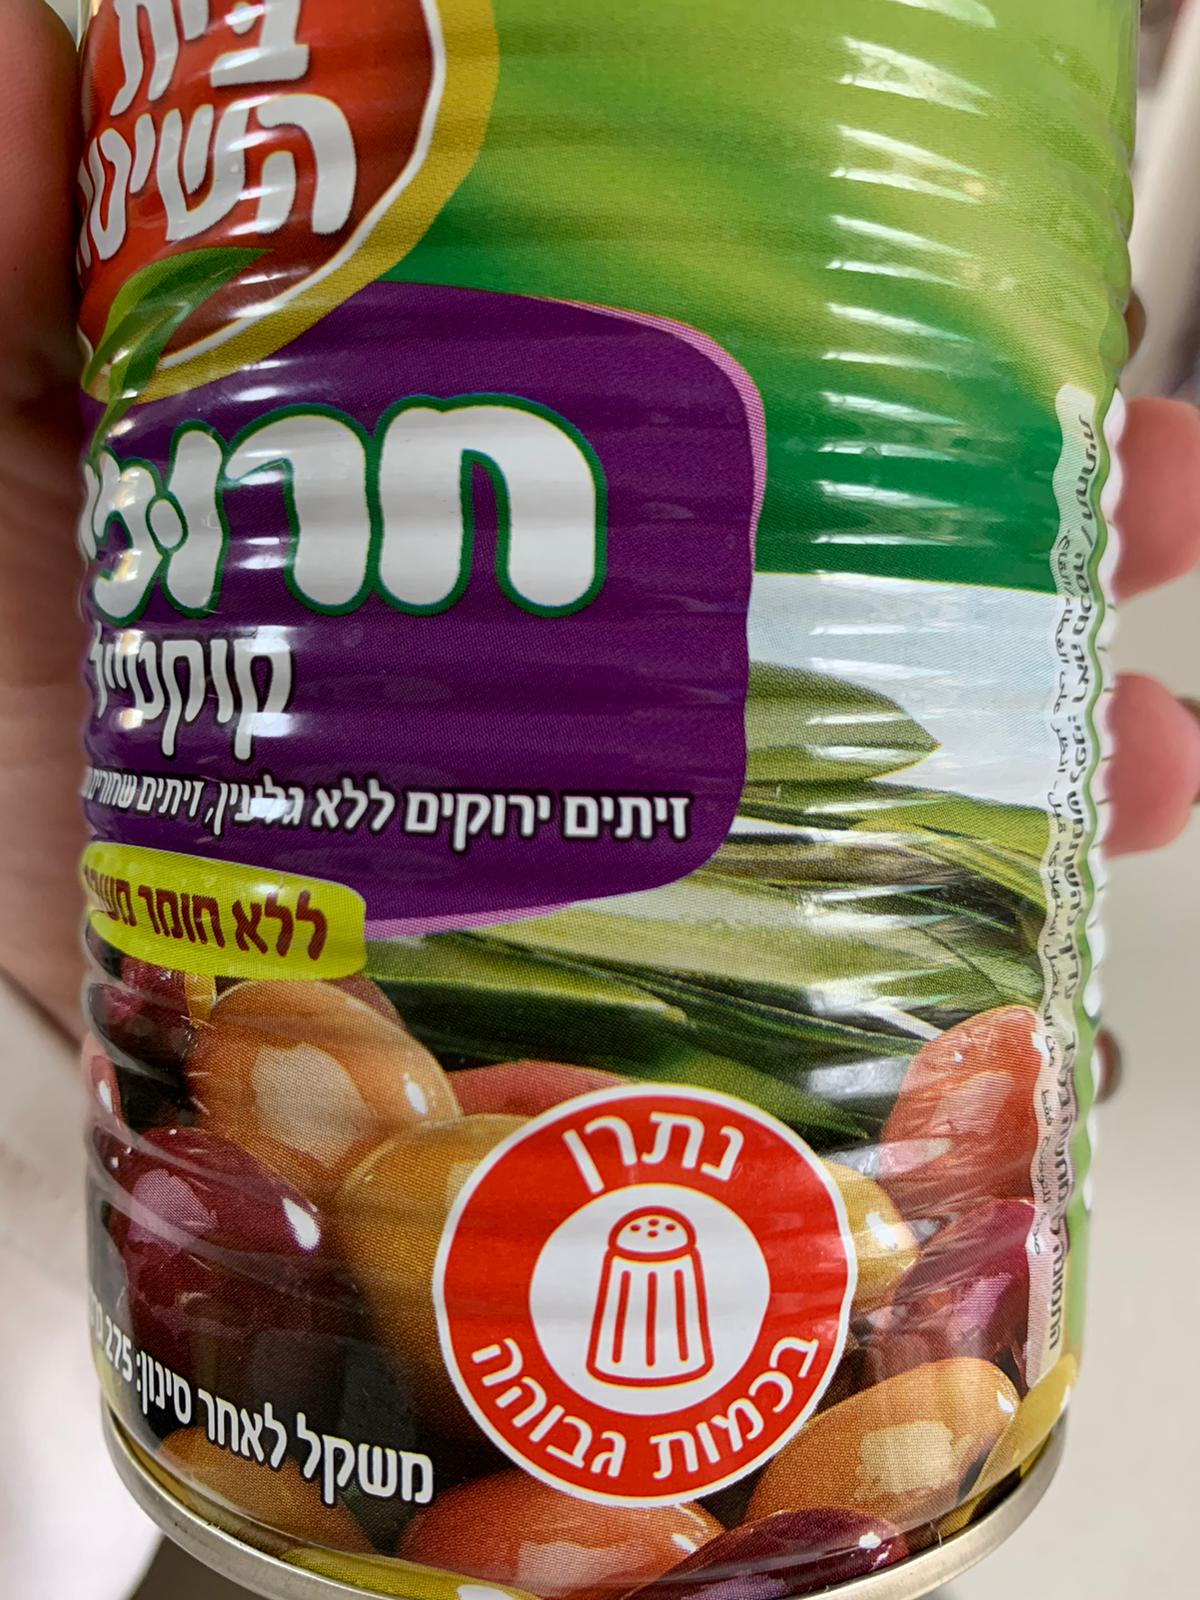salt: (427, 1083, 855, 1508)
